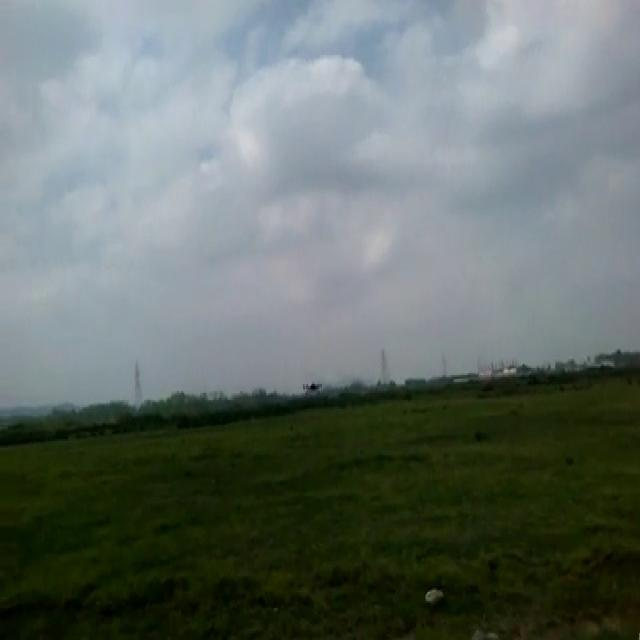drone: (300, 373, 324, 395)
